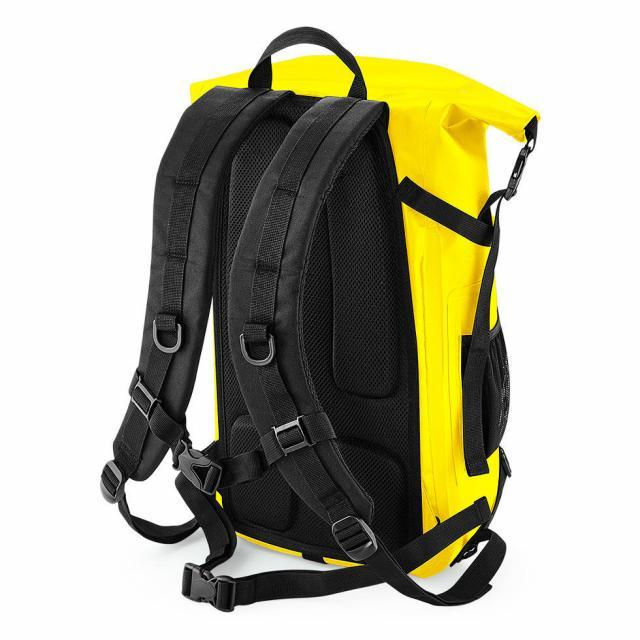Backpacks: (161, 68, 540, 575)
